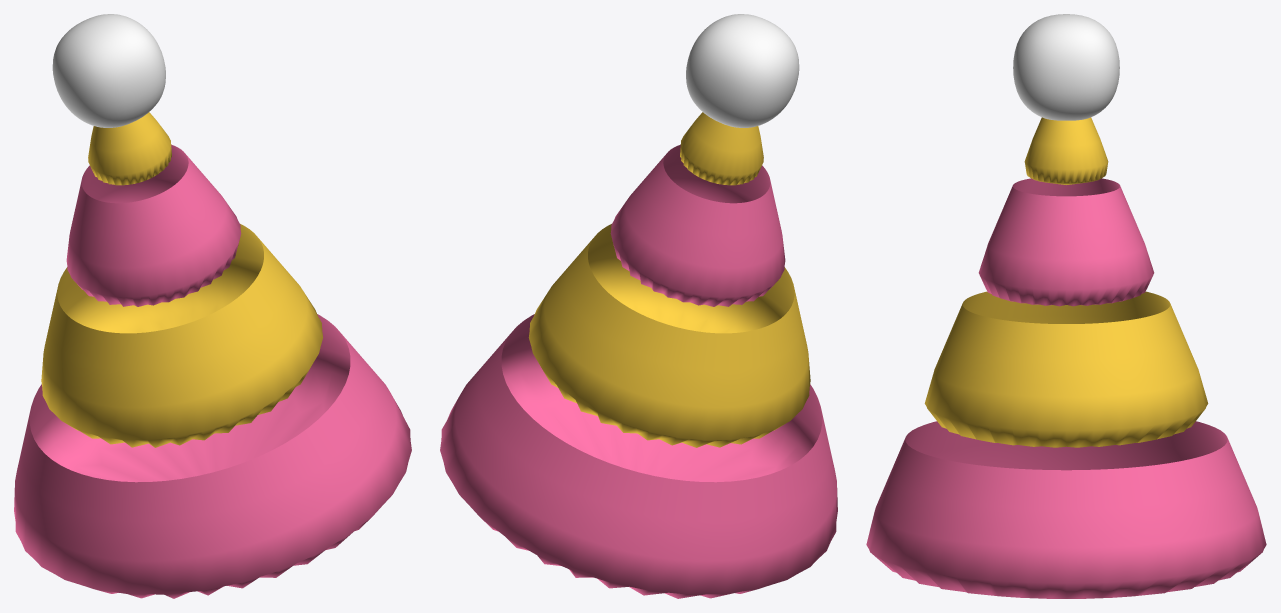
The model's file is party_hat.glb.
The picture shows the model from 3 angles, left to right: view 1: azimuth 30°, elevation 25°; view 2: azimuth 150°, elevation 25°; view 3: azimuth 270°, elevation 25°; orthographic projection.
Parts seen in each view (by area): view 1: ACC_party_band0, ACC_party_band1, ACC_party_band2, ACC_party_pompom, ACC_party_band3; view 2: ACC_party_band0, ACC_party_band1, ACC_party_band2, ACC_party_pompom, ACC_party_band3; view 3: ACC_party_band0, ACC_party_band1, ACC_party_band2, ACC_party_pompom, ACC_party_band3.
Part boxes in pixels (x1=…): ACC_party_band0: x1=14, y1=314, x2=411, y2=598; ACC_party_band1: x1=41, y1=224, x2=323, y2=447; ACC_party_band2: x1=66, y1=144, x2=241, y2=306; ACC_party_pompom: x1=52, y1=14, x2=165, y2=127; ACC_party_band3: x1=88, y1=112, x2=171, y2=185; ACC_party_band0: x1=440, y1=314, x2=837, y2=598; ACC_party_band1: x1=528, y1=224, x2=810, y2=447; ACC_party_band2: x1=610, y1=144, x2=785, y2=306; ACC_party_pompom: x1=686, y1=14, x2=799, y2=127; ACC_party_band3: x1=680, y1=112, x2=763, y2=185; ACC_party_band0: x1=866, y1=421, x2=1266, y2=598; ACC_party_band1: x1=924, y1=291, x2=1208, y2=447; ACC_party_band2: x1=978, y1=178, x2=1154, y2=306; ACC_party_pompom: x1=1013, y1=14, x2=1119, y2=120; ACC_party_band3: x1=1024, y1=117, x2=1108, y2=184.
Size of the model in its own units: 0.4517 by 0.684 by 0.4653.
